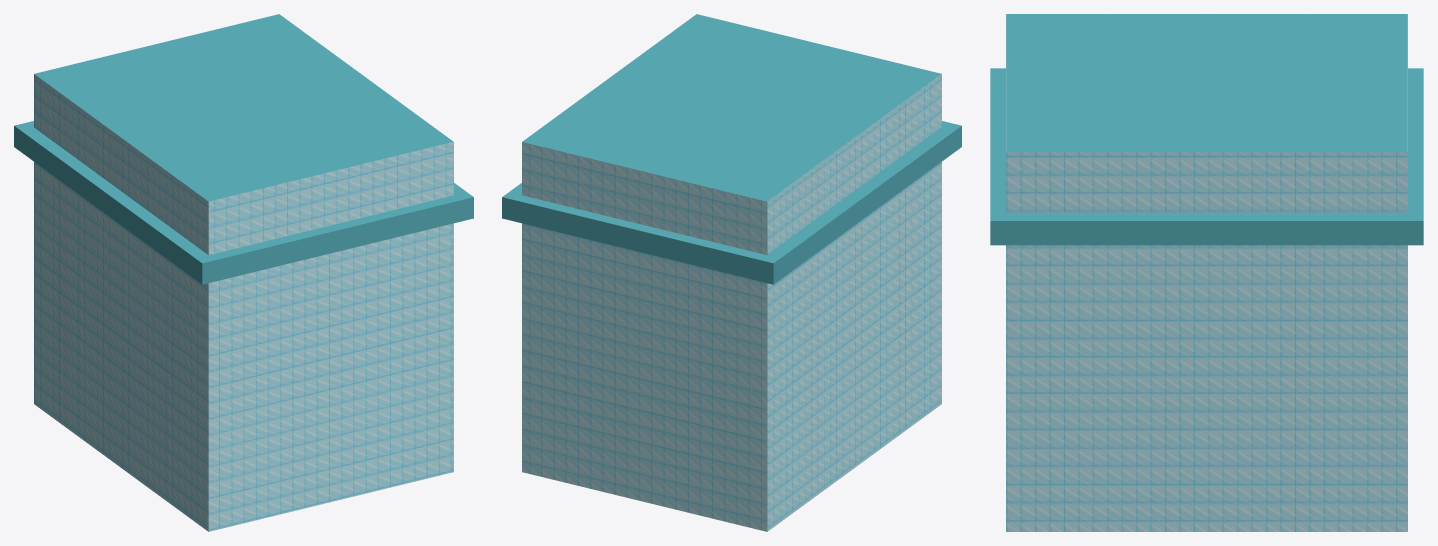
The model's file is bina8.fbx.
The picture shows the model from 3 angles, left to right: view 1: azimuth 30°, elevation 25°; view 2: azimuth 150°, elevation 25°; view 3: azimuth 270°, elevation 25°; orthographic projection. The views are drawn at different scales.
Parts seen in each view (by area): view 1: bina8_; view 2: bina8_; view 3: bina8_.
Boxes of the visible parts, x1,y1,x2,y2 form: bina8_: (14, 14, 473, 531); bina8_: (502, 14, 961, 531); bina8_: (990, 14, 1423, 531).
Bounding box in the file's own units: 64.69 × 75.2 × 77.62.
